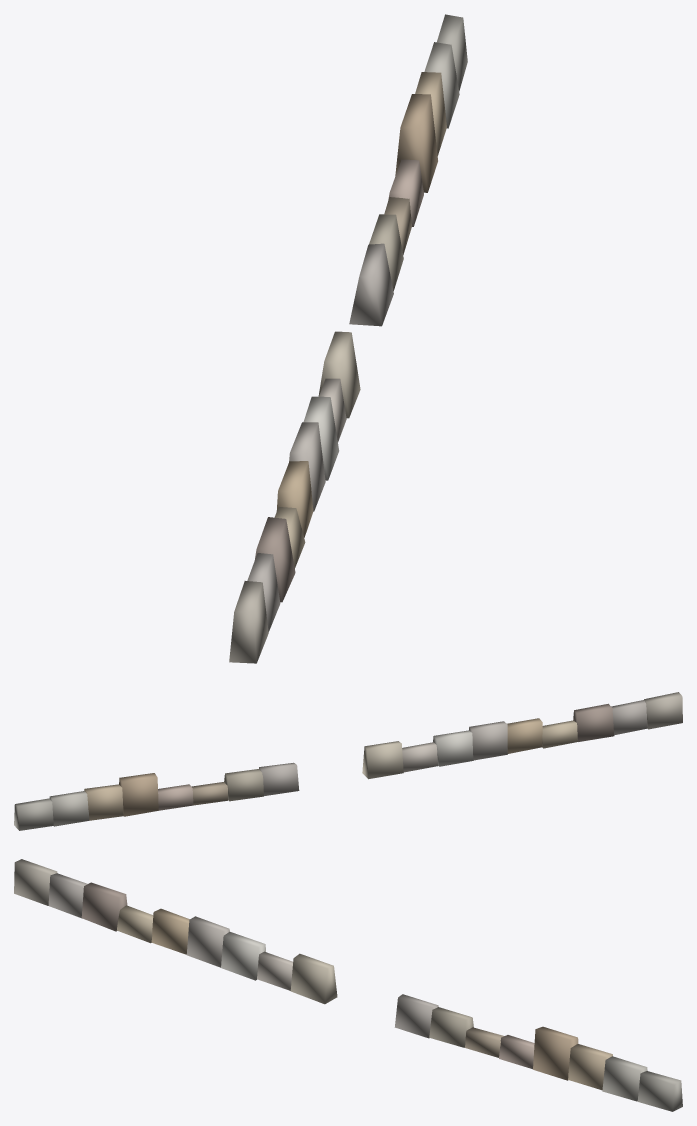
The model's file is farm_-3_-9_far.glb.
3 views of the same model, one above another, from view 1: azimuth 30°, elevation 25°; view 2: azimuth 150°, elevation 25°; view 3: azimuth 270°, elevation 25° (orthographic). The views are drawn at different scales.
Parts seen in each view (by area): view 1: geometry_0; view 2: geometry_0; view 3: geometry_0.
Part boxes in pixels (x1,y1,x2,y2): geometry_0: (229, 14, 467, 663); geometry_0: (14, 692, 682, 830); geometry_0: (14, 859, 682, 1111).
Size of the model in its own units: 18.83 by 1.72 by 23.46.
